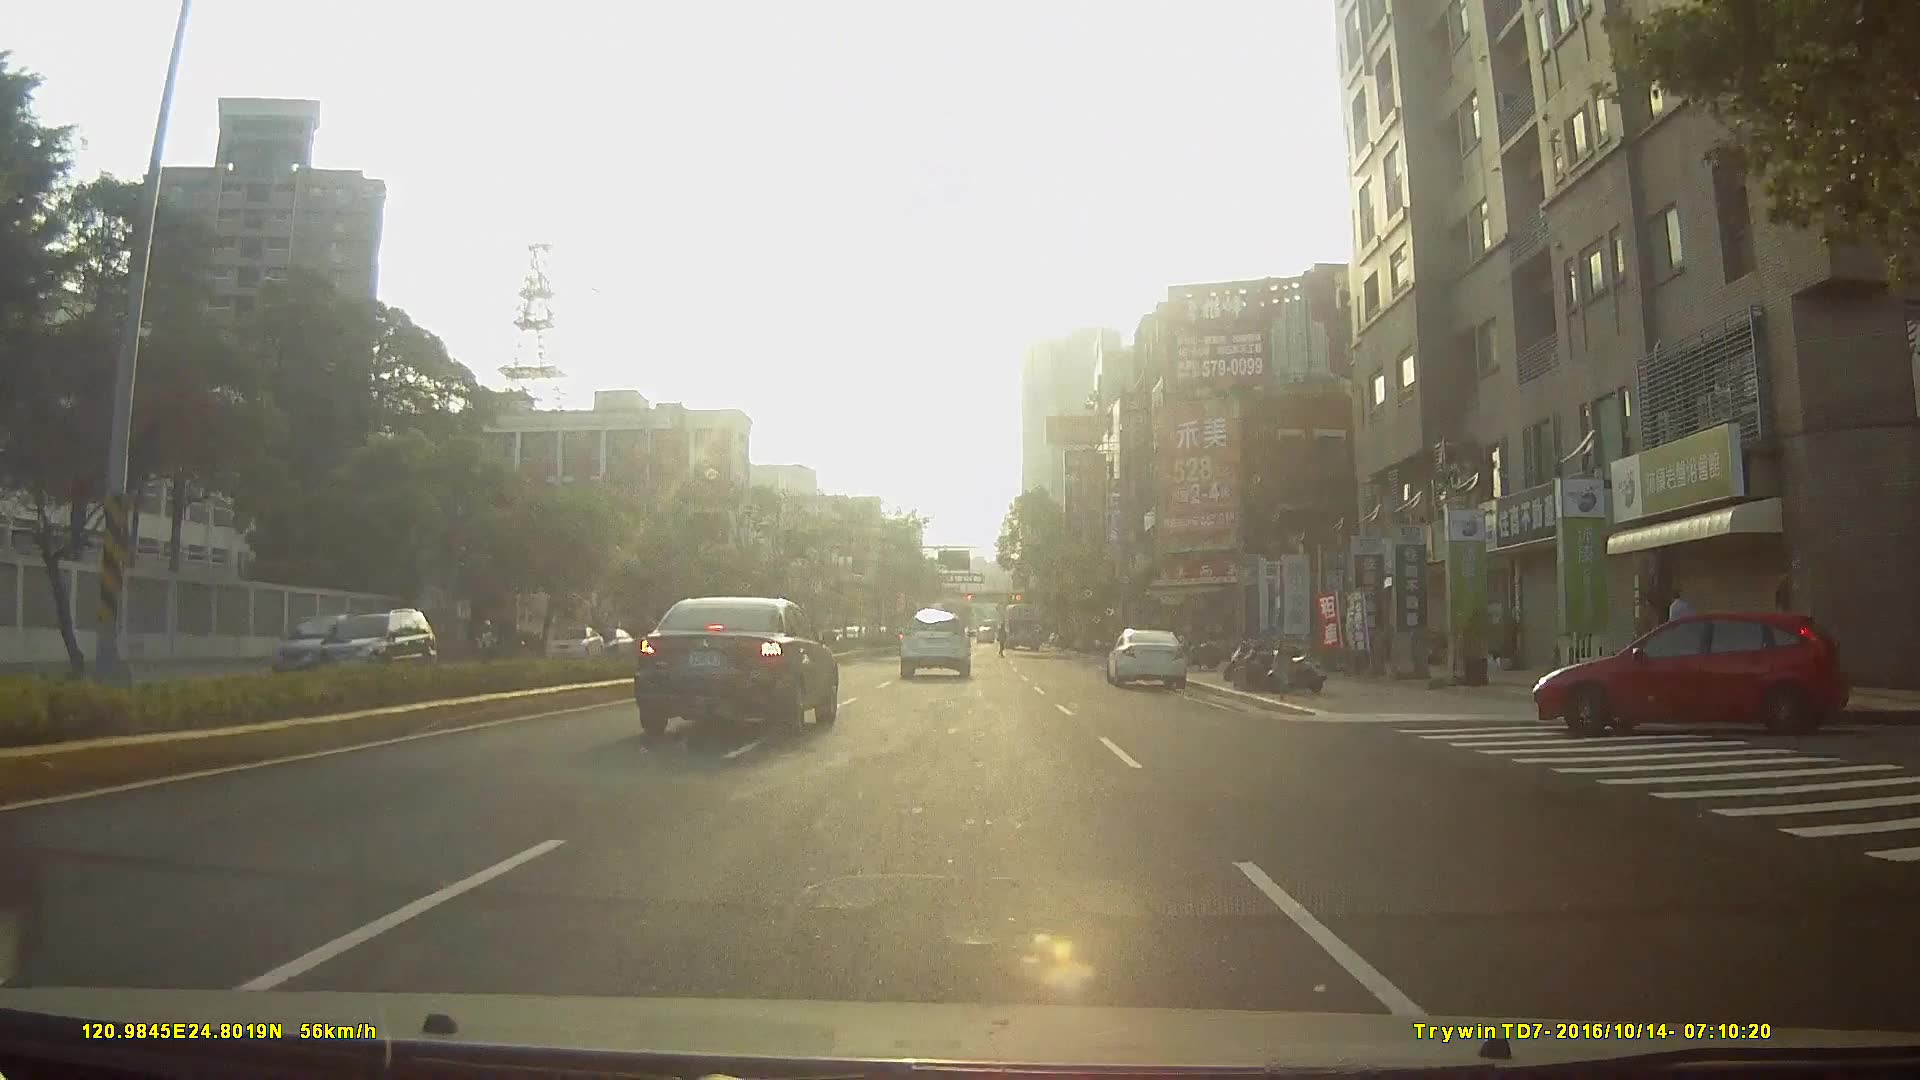pedestrian: (1664, 588, 1696, 679)
rider: (473, 616, 504, 665)
vehicle: (1525, 605, 1857, 740), (638, 594, 841, 736), (290, 604, 424, 677), (1105, 626, 1193, 689), (897, 608, 971, 679), (270, 614, 350, 676), (998, 600, 1044, 651), (544, 624, 604, 659)
